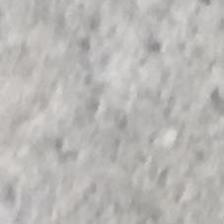Non_Crack: (28, 19, 224, 211)
